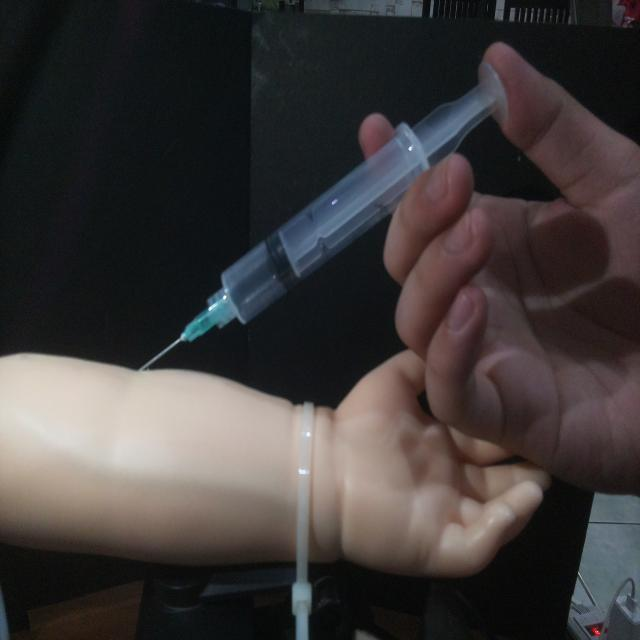28deg: (134, 57, 512, 374)
